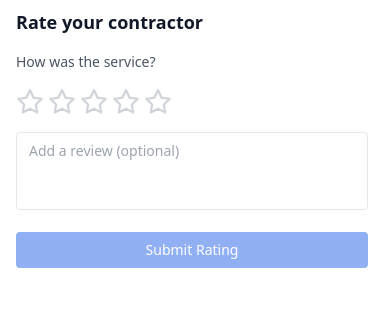
Test: shows error message on submit failure
Click the button named "1 star".
click(30, 102)  # box left=16, top=88, right=44, bottom=116
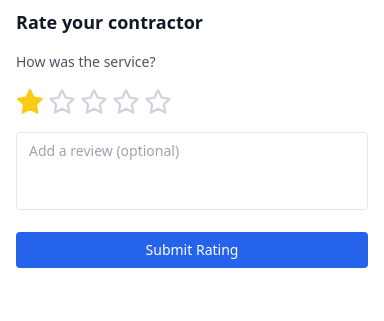
Click the button "Submit Rating".
click(192, 250)  # box left=16, top=232, right=368, bottom=268
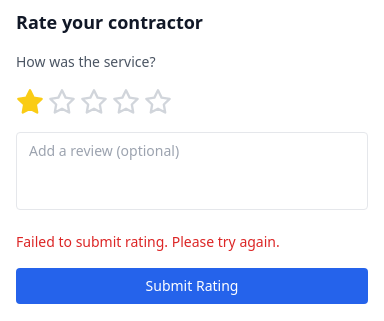
Result: the text "Failed to submit rating. Please try again." is shown at left=16, top=232, right=280, bottom=251
